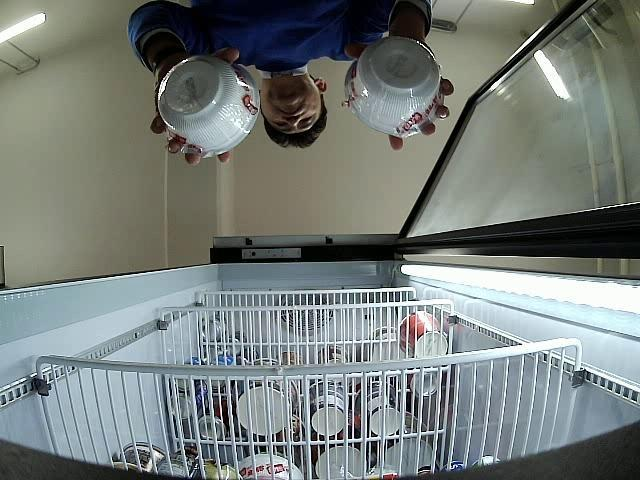09_yukGaeJang: (158, 55, 260, 158), (344, 36, 445, 136)
